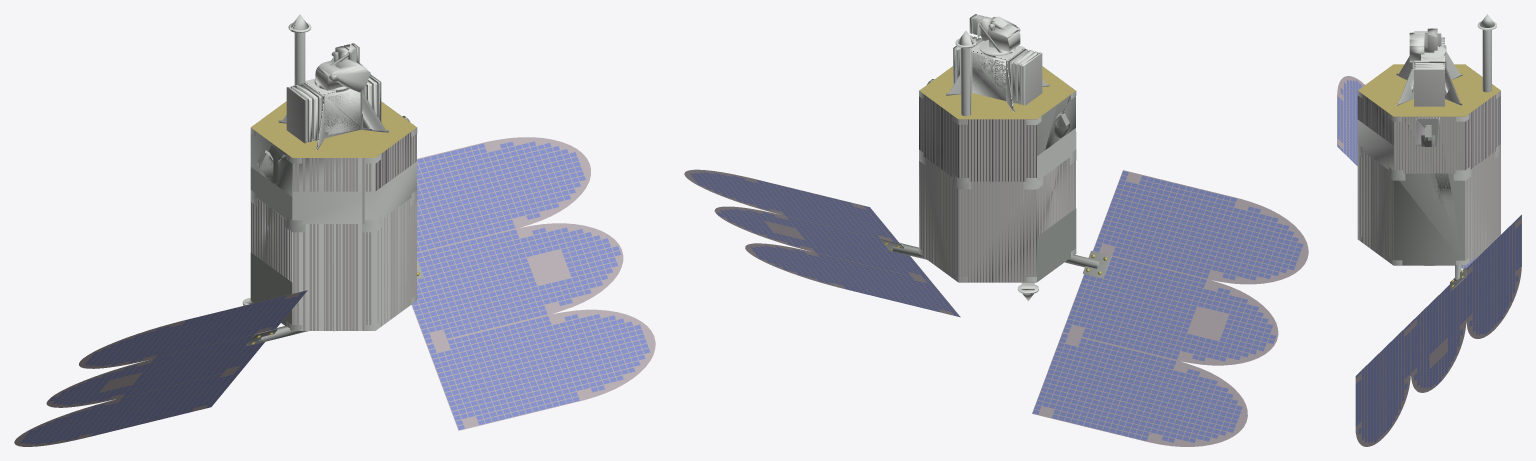
File: total-ozone-mapping-spectrometer-toms.glb
The picture shows the model from 3 angles, left to right: view 1: azimuth 30°, elevation 25°; view 2: azimuth 150°, elevation 25°; view 3: azimuth 270°, elevation 25°; orthographic projection. The views are drawn at different scales.
Visible parts, largest first — view 1: Fake; view 2: Fake; view 3: Fake.
Boxes of the visible parts, box(x1,y1,x2,y2) form: Fake: box(14, 14, 655, 446); Fake: box(684, 14, 1308, 446); Fake: box(1337, 14, 1521, 446).
Size of the model in its own units: 38.92 by 24.22 by 12.37.
Materials: 1 (1 with a texture image).
